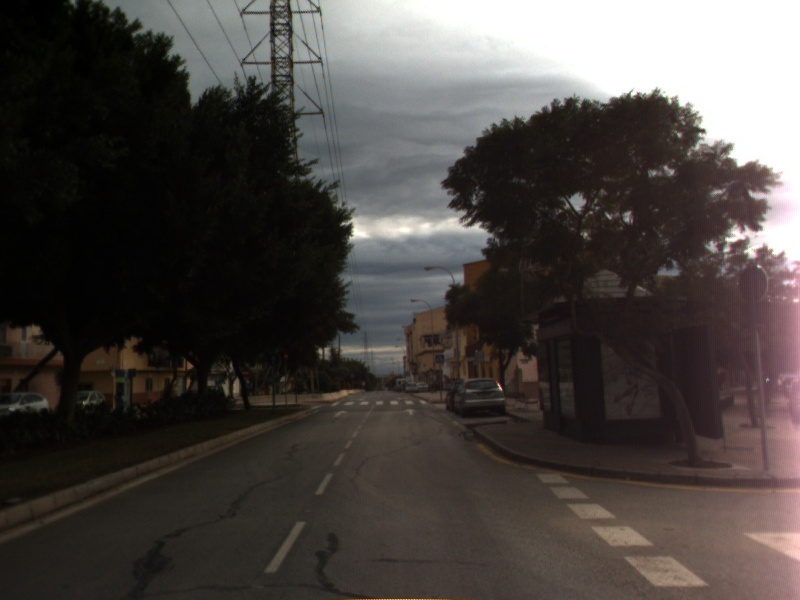STRAIGHT: (400, 406, 421, 418), (331, 408, 351, 420)
